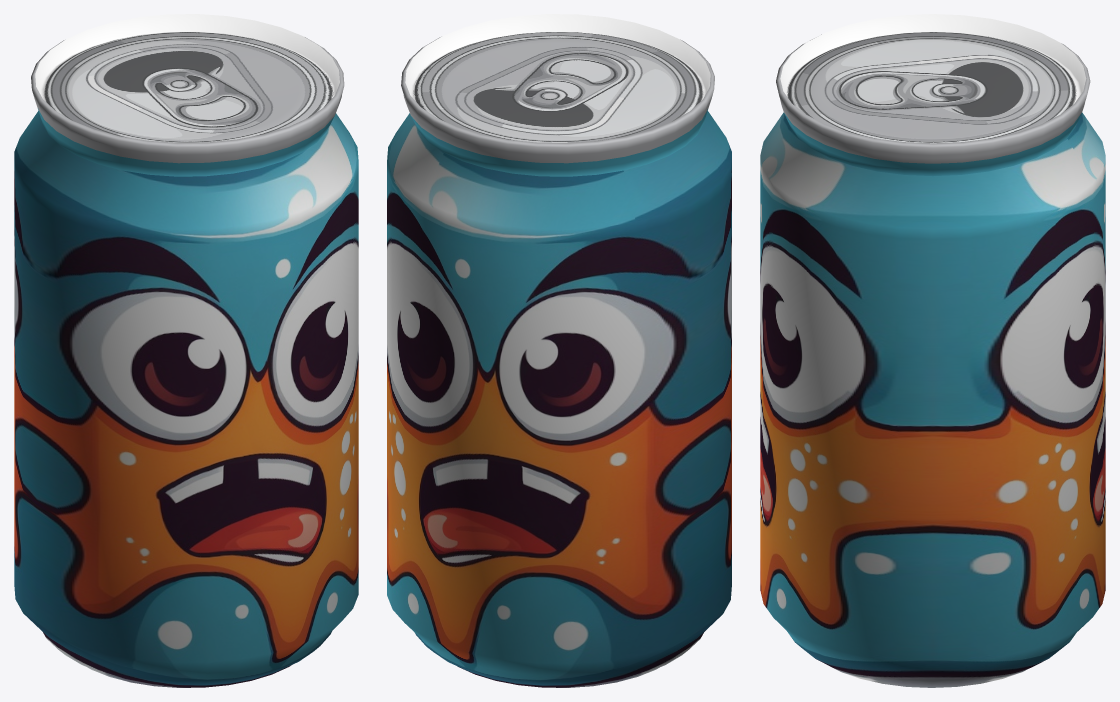
Rendered from 3d_lata_3.gltf.
3 renders of one model, left to right at view 1: azimuth 30°, elevation 25°; view 2: azimuth 150°, elevation 25°; view 3: azimuth 270°, elevation 25°, orthographic.
Visible parts, largest first — view 1: Circle; view 2: Circle; view 3: Circle.
Boxes of the visible parts, x1,y1,x2,y2 form: Circle: (14,14,358,687); Circle: (387,14,731,687); Circle: (760,14,1105,687).
Size of the model in its own units: 2.05 by 3.75 by 2.05.
Materials: 2 (2 with a texture image).
